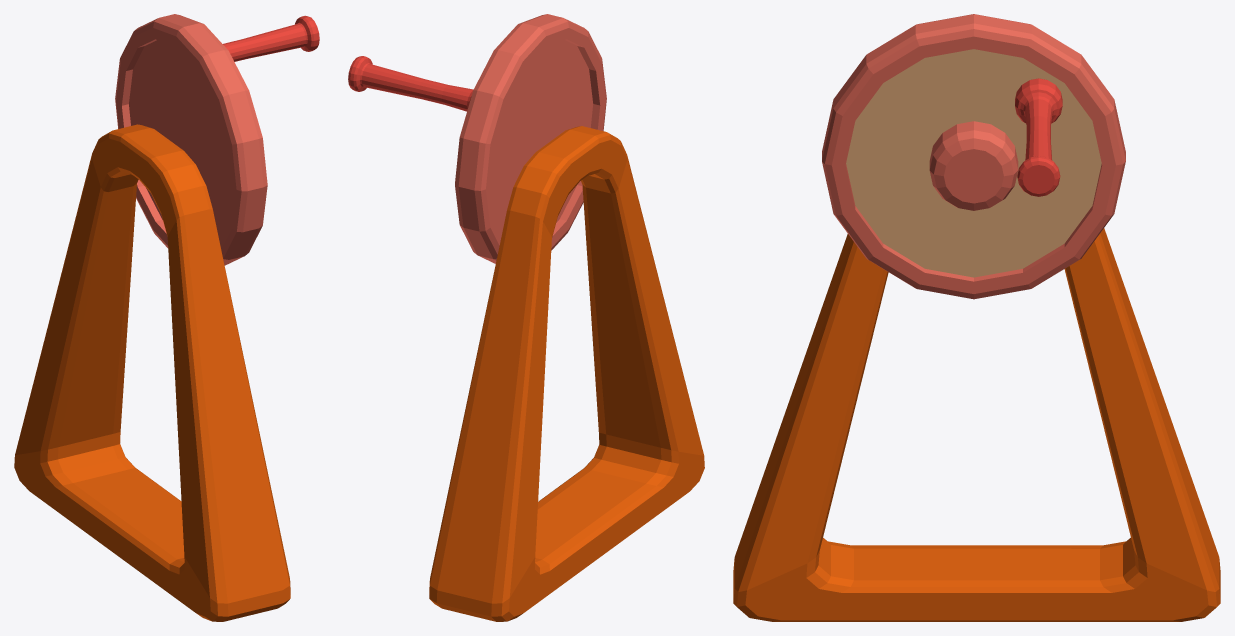
The model's file is PulleyBlend.fbx.
3 renders of one model, left to right at view 1: azimuth 30°, elevation 25°; view 2: azimuth 150°, elevation 25°; view 3: azimuth 270°, elevation 25°, orthographic. The views are drawn at different scales.
Parts seen in each view (by area): view 1: Pulley, Cylinder.001, Cylinder.002; view 2: Pulley, Cylinder.001, Cylinder.002; view 3: Pulley, Cylinder.001, Cylinder.002.
Part boxes in pixels (bbox=[...]): Pulley: bbox=[14, 124, 290, 621]; Cylinder.001: bbox=[115, 14, 267, 265]; Cylinder.002: bbox=[223, 15, 319, 61]; Pulley: bbox=[429, 126, 704, 621]; Cylinder.001: bbox=[455, 14, 606, 263]; Cylinder.002: bbox=[348, 56, 473, 111]; Pulley: bbox=[733, 228, 1220, 621]; Cylinder.001: bbox=[822, 14, 1125, 299]; Cylinder.002: bbox=[1015, 78, 1062, 196].
Size of the model in its own units: 3.5 by 7.59 by 5.54.
